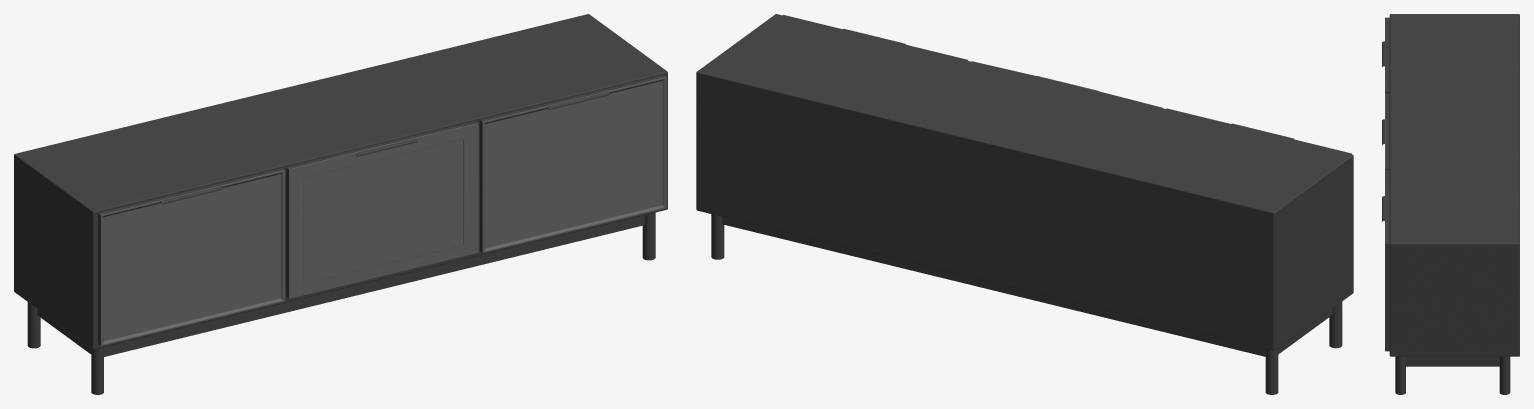
Rendered from Tv_shelf_005.gltf.
The picture shows the model from 3 angles, left to right: view 1: azimuth 30°, elevation 25°; view 2: azimuth 150°, elevation 25°; view 3: azimuth 270°, elevation 25°; orthographic projection. The views are drawn at different scales.
Parts seen in each view (by area): view 1: Tv_shelf_005; view 2: Tv_shelf_005; view 3: Tv_shelf_005.
Part boxes in pixels (left/top/right/bottom): Tv_shelf_005: left=14, top=14, right=667, bottom=394; Tv_shelf_005: left=696, top=14, right=1353, bottom=394; Tv_shelf_005: left=1382, top=14, right=1519, bottom=394.
Bounding box in the file's own units: 1.82 × 0.5696 × 0.4618.
Materials: 1 (1 with a texture image).
